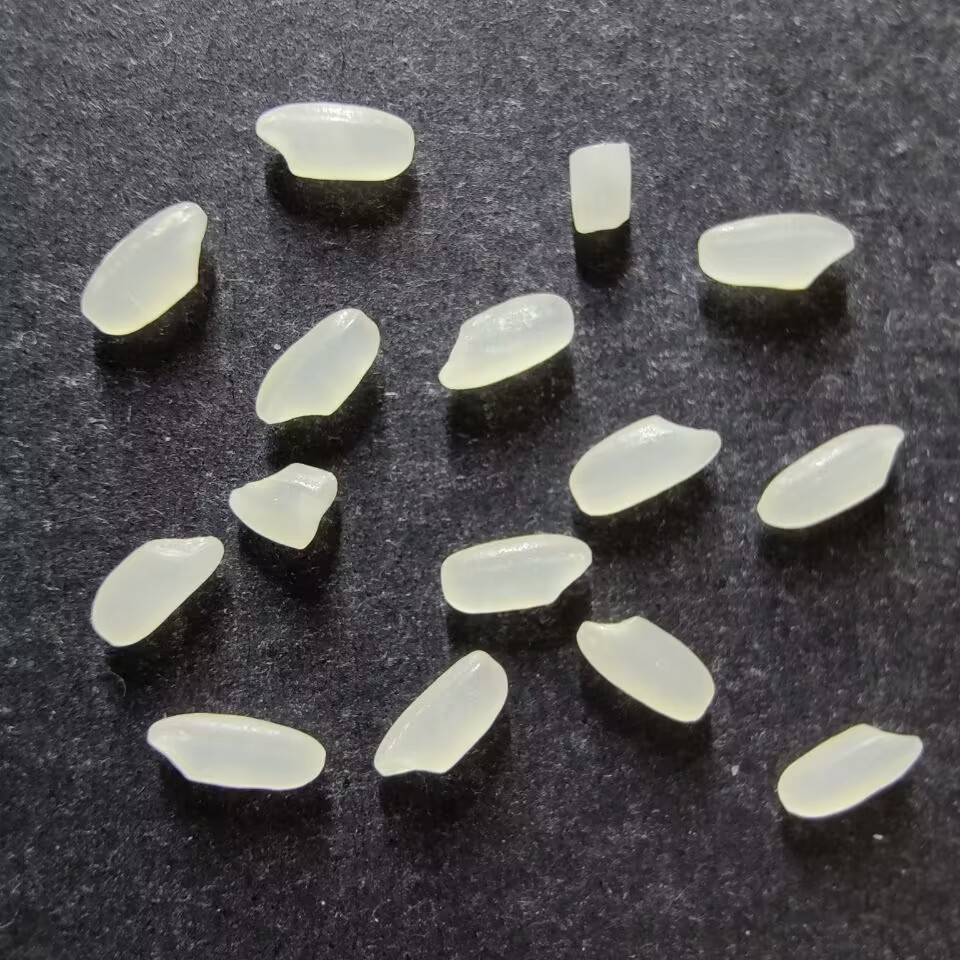broken: (228, 463, 337, 549), (568, 142, 633, 233)
rice: (79, 201, 208, 336), (373, 649, 508, 776), (568, 415, 722, 516), (756, 424, 904, 528), (90, 535, 223, 648), (254, 307, 381, 425), (576, 616, 715, 723), (146, 712, 326, 791), (777, 723, 923, 819), (437, 293, 573, 390), (255, 101, 415, 180), (697, 212, 854, 290), (440, 533, 592, 613)
